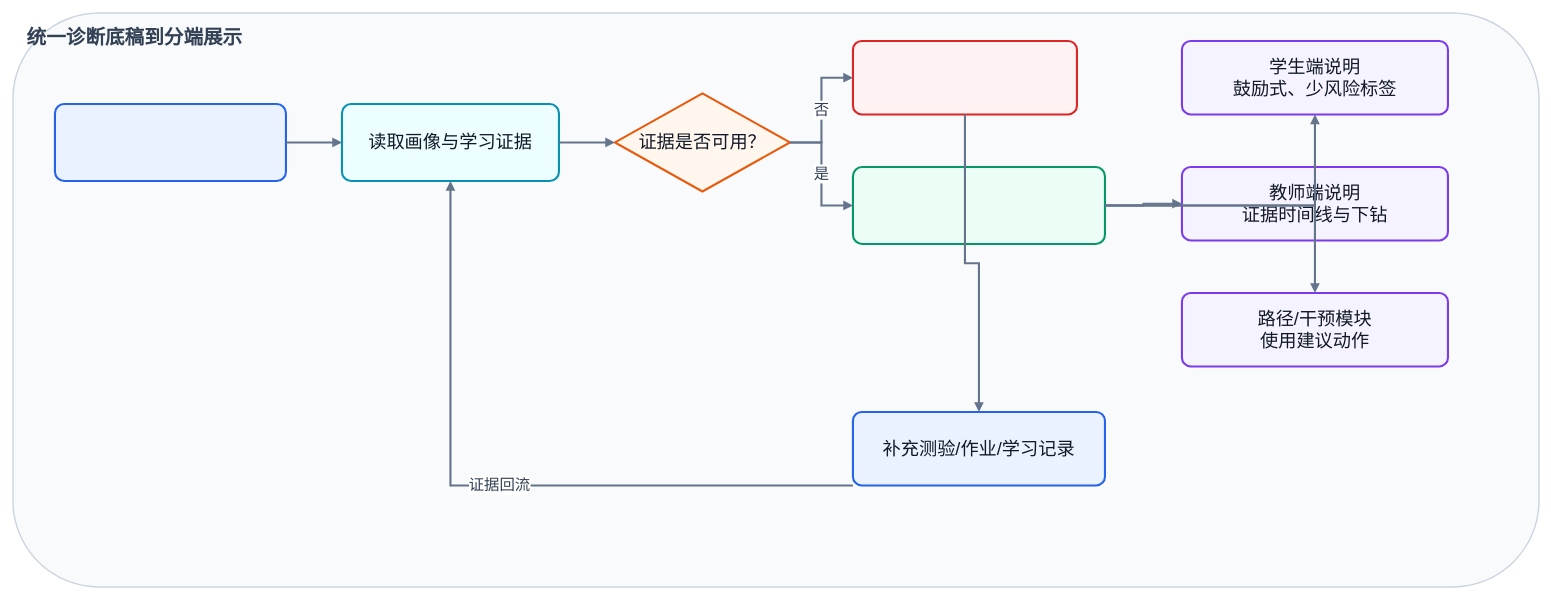
This 1551x599 diagram has some shape labels left out. The box of each missing label's shape, as (x1, y1, x2, y2) in pixels:
依据不足提示 不输出强诊断: (852, 40, 1078, 115)
发起诊断请求 学生/教师/路径/看板: (54, 103, 287, 182)
生成统一诊断底稿 问题/原因/依据/建议: (852, 166, 1106, 245)
